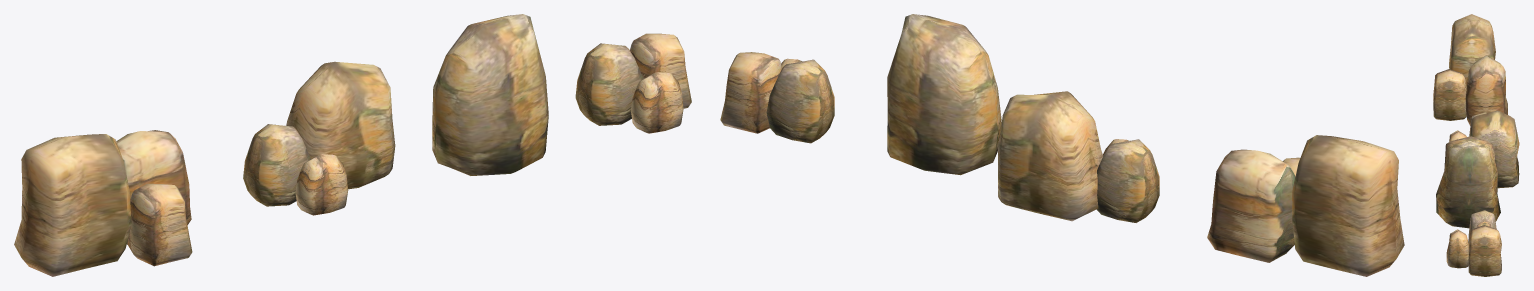
File: Object_Stones.FBX
The picture shows the model from 3 angles, left to right: view 1: azimuth 30°, elevation 25°; view 2: azimuth 150°, elevation 25°; view 3: azimuth 270°, elevation 25°; orthographic projection. The views are drawn at different scales.
Visible parts, largest first — view 1: stone9, stone4, stone8, stone7, stone3, stone6, stone5, stone10, stone2, stone1; view 2: stone9, stone4, stone8, stone5, stone3, stone6, stone1; view 3: stone9, stone8, stone5, stone4, stone1, stone7, stone2, stone3, stone10.
Boxes of the visible parts, box(x1,y1,x2,y2) form: stone9: box(432, 14, 548, 175); stone4: box(14, 134, 131, 276); stone8: box(286, 61, 395, 189); stone7: box(128, 183, 192, 266); stone3: box(575, 43, 643, 125); stone6: box(243, 124, 310, 206); stone5: box(116, 130, 191, 244); stone10: box(295, 154, 348, 215); stone2: box(631, 72, 683, 133); stone1: box(630, 33, 691, 108); stone9: box(887, 14, 1001, 175); stone4: box(1292, 135, 1404, 276); stone8: box(998, 91, 1103, 221); stone5: box(1207, 149, 1295, 262); stone3: box(766, 59, 834, 143); stone6: box(1096, 139, 1159, 222); stone1: box(720, 52, 781, 133); stone9: box(1436, 136, 1500, 228); stone8: box(1470, 110, 1519, 188); stone5: box(1466, 55, 1507, 125); stone4: box(1449, 14, 1495, 98); stone1: box(1468, 225, 1501, 276); stone7: box(1433, 69, 1466, 120); stone2: box(1446, 229, 1468, 268); stone3: box(1468, 210, 1496, 243); stone10: box(1449, 130, 1466, 141).
Size of the model in its own units: 266 by 51.3 by 48.66.
